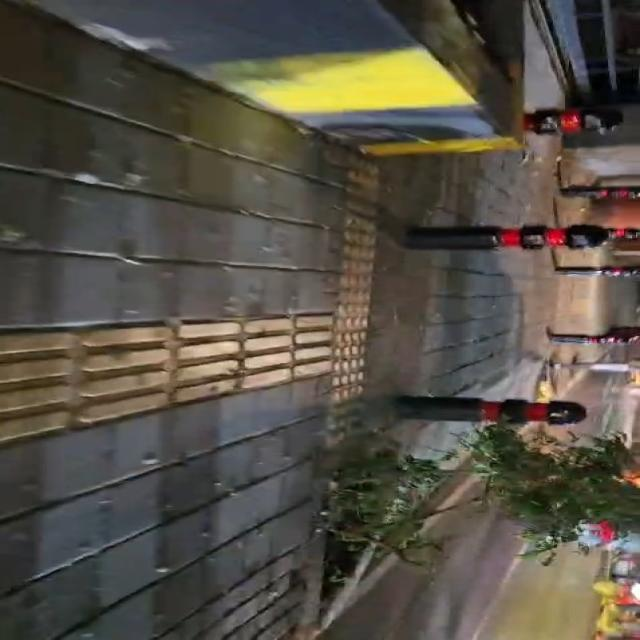obstacle: (30, 0, 527, 156), (405, 225, 639, 249), (395, 396, 586, 425), (549, 327, 639, 344), (560, 186, 639, 200), (555, 267, 639, 279)
